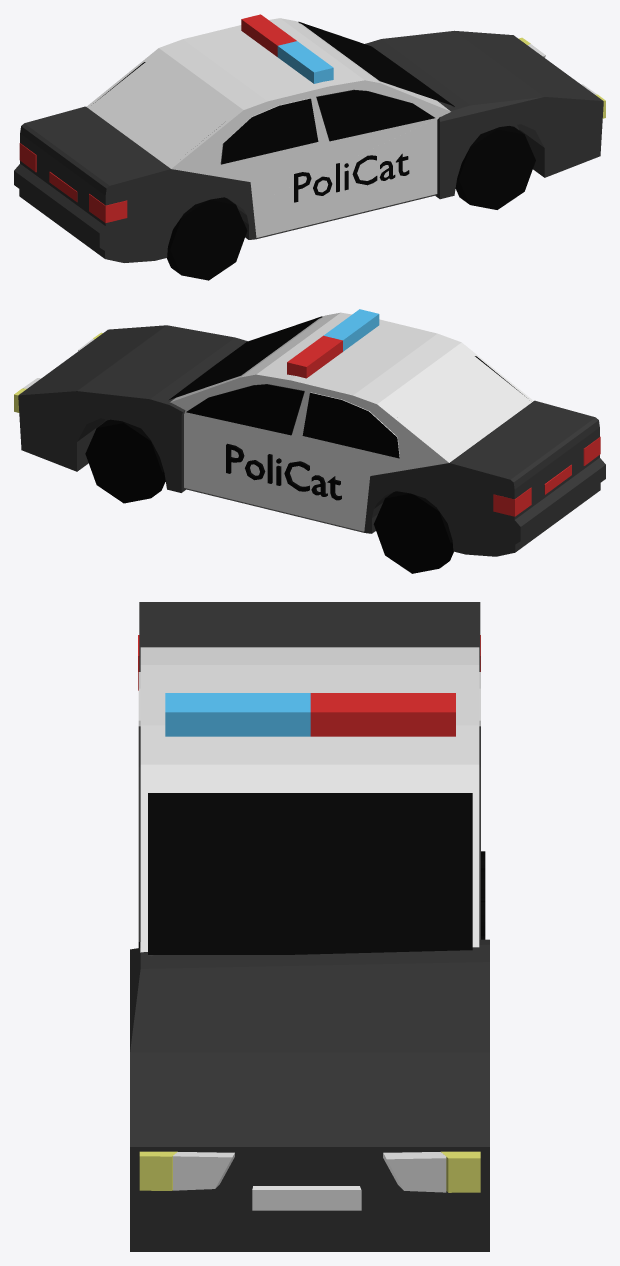
File: PoliceCarLowPoly.fbx
3 renders of one model, top to bottom at view 1: azimuth 30°, elevation 25°; view 2: azimuth 150°, elevation 25°; view 3: azimuth 270°, elevation 25°, orthographic. The views are drawn at different scales.
Parts seen in each view (by area): view 1: Sphère.001, Cylinder, Cylinder.001, Cube, Text, Cube.001; view 2: Sphère.001, Cylinder.003, Cylinder.002, Text.001, Cube.001, Cube; view 3: Sphère.001, Cube, Cube.001.
Part boxes in pixels (x1=…): Sphère.001: x1=14, y1=18, x2=605, y2=262; Cylinder: x1=455, y1=126, x2=535, y2=209; Cylinder.001: x1=167, y1=197, x2=247, y2=280; Cube: x1=277, y1=41, x2=333, y2=83; Text: x1=294, y1=153, x2=409, y2=202; Cube.001: x1=241, y1=14, x2=296, y2=56; Sphère.001: x1=14, y1=312, x2=605, y2=556; Cylinder.003: x1=85, y1=419, x2=165, y2=503; Cylinder.002: x1=373, y1=491, x2=453, y2=573; Text.001: x1=226, y1=443, x2=341, y2=500; Cube.001: x1=287, y1=335, x2=342, y2=378; Cube: x1=324, y1=309, x2=379, y2=351; Sphère.001: x1=130, y1=602, x2=489, y2=1251; Cube: x1=165, y1=693, x2=310, y2=736; Cube.001: x1=310, y1=693, x2=455, y2=736.
Size of the model in its own units: 419 by 139 by 129.
Materials: 9 (2 with a texture image).
